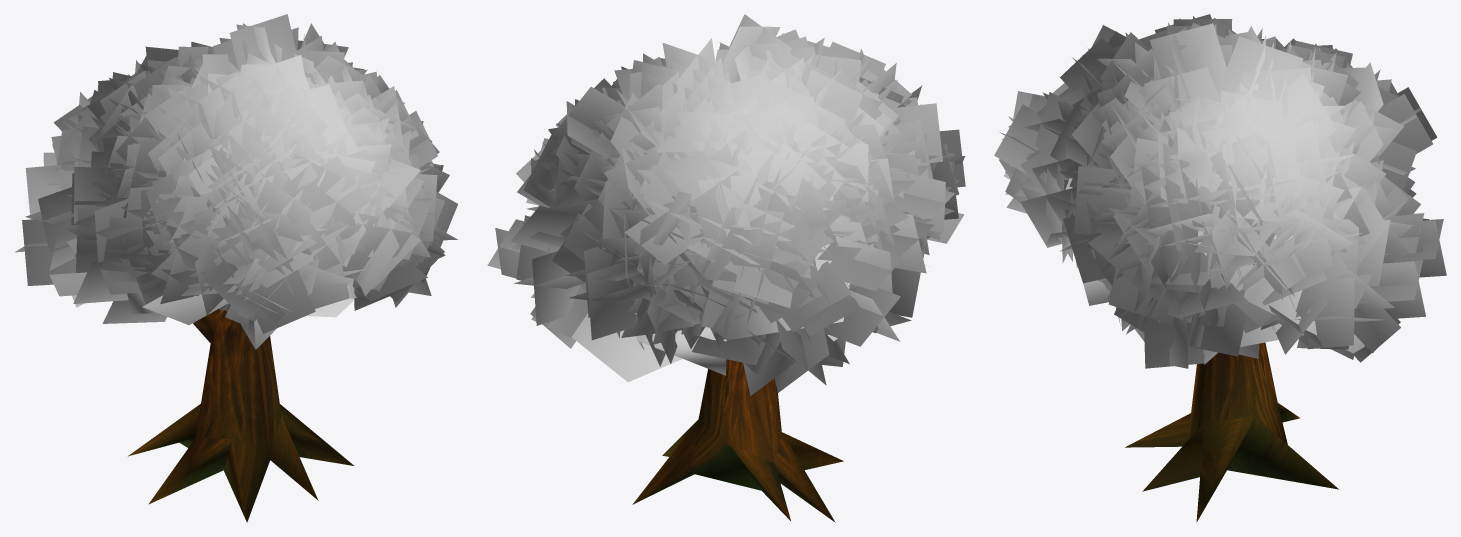
The model's file is Large_Tree_02_2.0.fbx.
3 views of the same model, side by side, from view 1: azimuth 30°, elevation 25°; view 2: azimuth 150°, elevation 25°; view 3: azimuth 270°, elevation 25° (orthographic). The views are drawn at different scales.
Parts seen in each view (by area): view 1: Tree02_LOD0; view 2: Tree02_LOD0; view 3: Tree02_LOD0.
Part boxes in pixels (x1,y1,x2,y2): Tree02_LOD0: (15, 14, 457, 522); Tree02_LOD0: (487, 14, 965, 522); Tree02_LOD0: (994, 14, 1446, 521).
Size of what is drawn, in the model's own units: 789 by 894 by 791.
